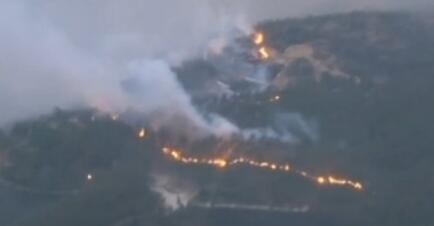fire: (160, 144, 363, 191), (254, 31, 269, 55), (138, 129, 146, 138)
smoke: (1, 1, 308, 142)
